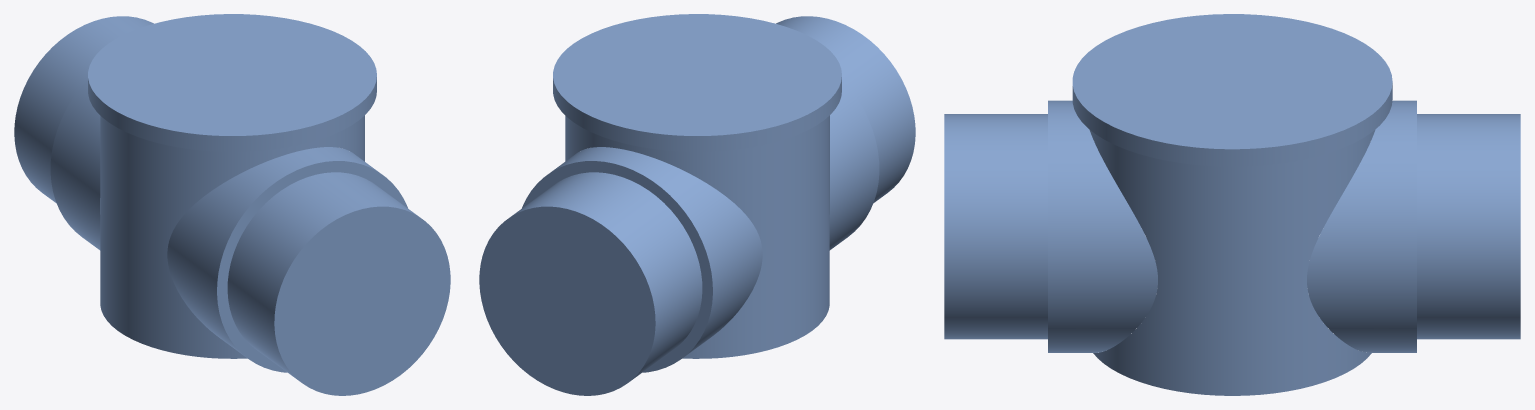
The model's file is step_47.glb.
3 views of the same model, side by side, from view 1: azimuth 30°, elevation 25°; view 2: azimuth 150°, elevation 25°; view 3: azimuth 270°, elevation 25° (orthographic). The views are drawn at different scales.
Visible parts, largest first — view 1: part__4" needle valve body NV-101; view 2: part__4" needle valve body NV-101; view 3: part__4" needle valve body NV-101.
Part boxes in pixels (<box>): part__4" needle valve body NV-101: <box>14,14,450,395</box>; part__4" needle valve body NV-101: <box>479,14,915,395</box>; part__4" needle valve body NV-101: <box>944,14,1520,395</box>.
Size of the model in its own units: 162 by 145 by 292.
